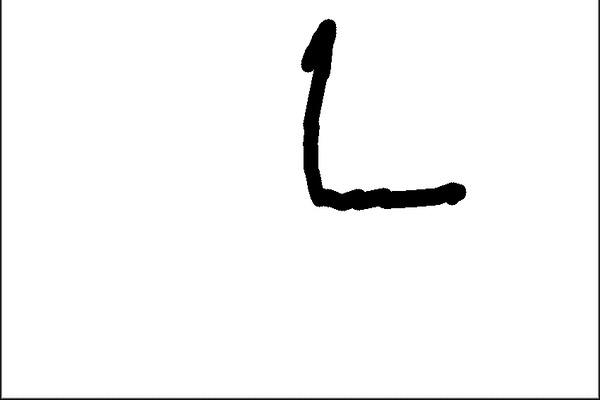L: (294, 12, 472, 215)
